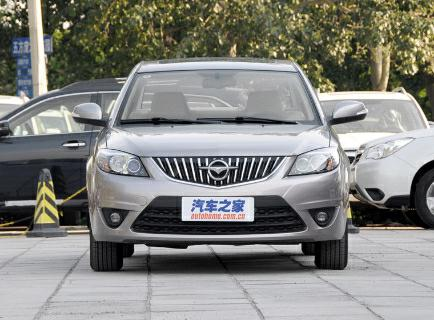海马-福美来: (81, 56, 359, 269)
